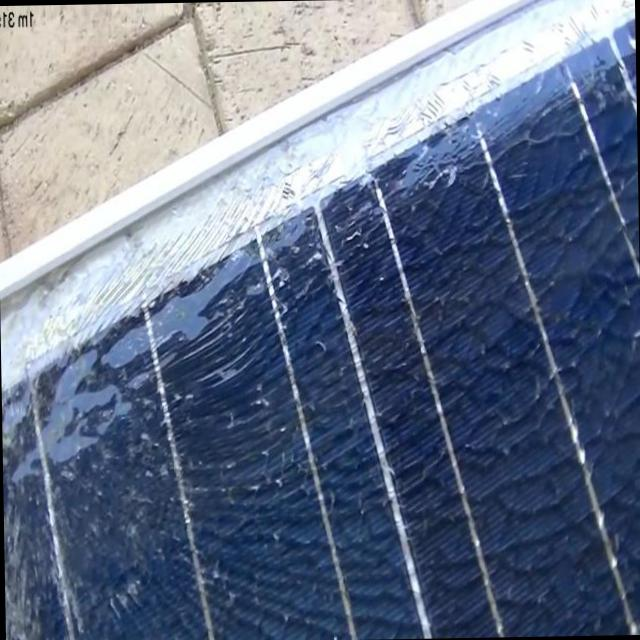faulty: (6, 0, 640, 640)
